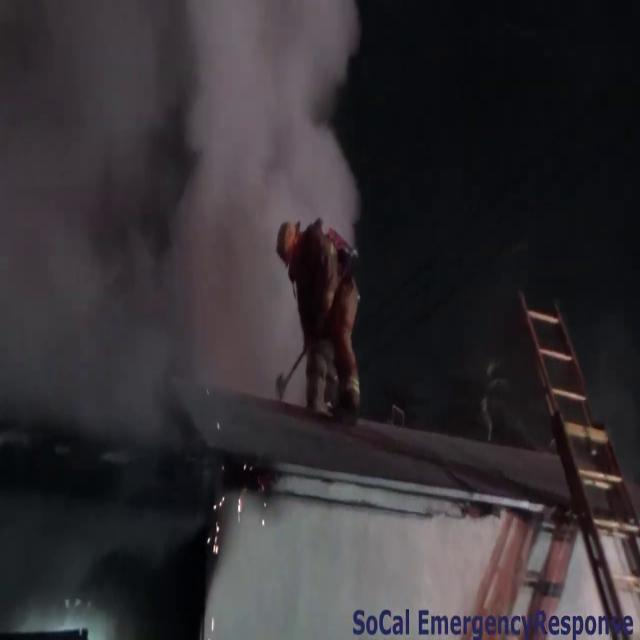Smoke: (0, 0, 374, 385)
